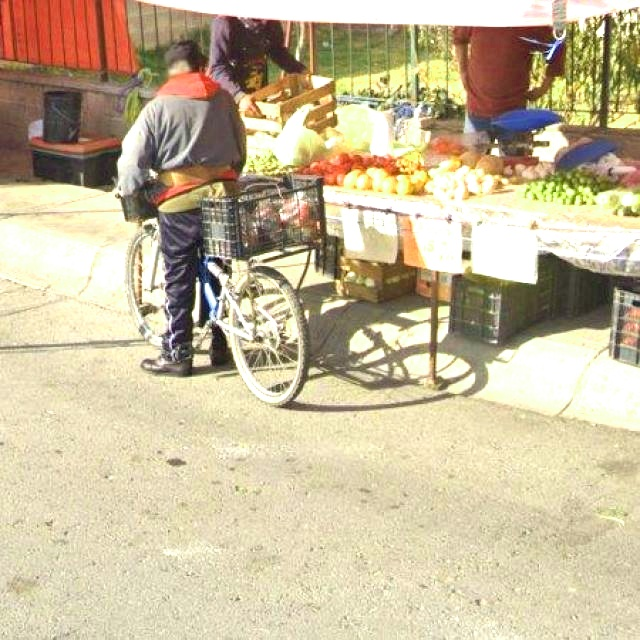bicycle: (70, 148, 334, 415)
